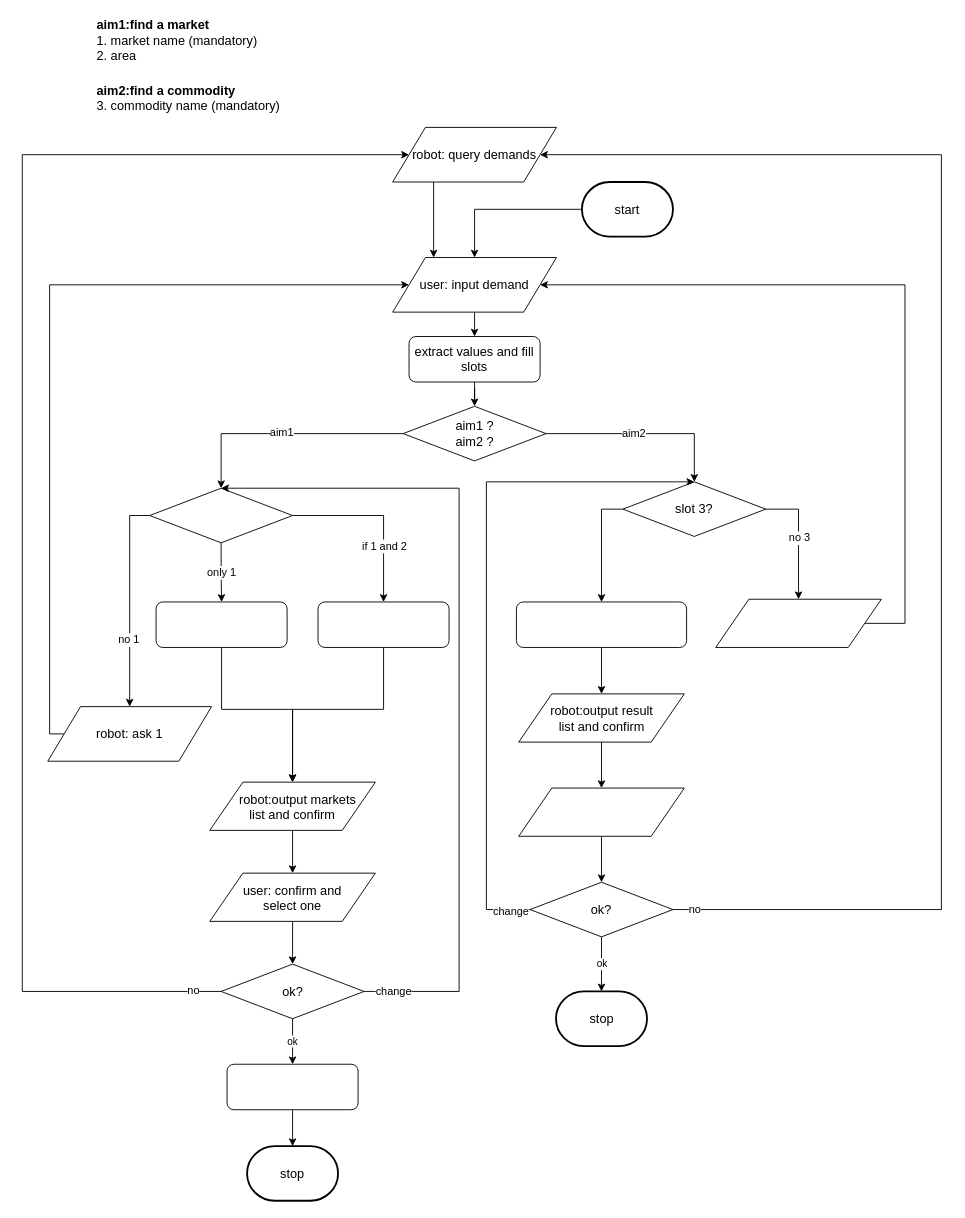
The diagram is 965 pixels wide and 1218 high, and some of its shapes have lost their labels. The box of each missing label's shape, as (x1, y1, x2, y2) in pixels:
robot:ask 3: (715, 598, 881, 647)
search all markets: (155, 601, 287, 647)
search markets in 2: (317, 601, 449, 647)
search route to the market: (226, 1063, 358, 1110)
search the market to buy, the price of the commodity and other information: (516, 601, 687, 647)
slot 1 ? slot 2 ?: (149, 487, 293, 543)
user: input confirm: (518, 787, 684, 836)
